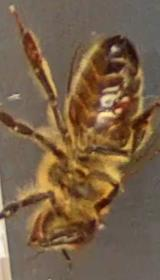varroa_mite: (102, 88, 138, 116), (62, 96, 80, 125)
